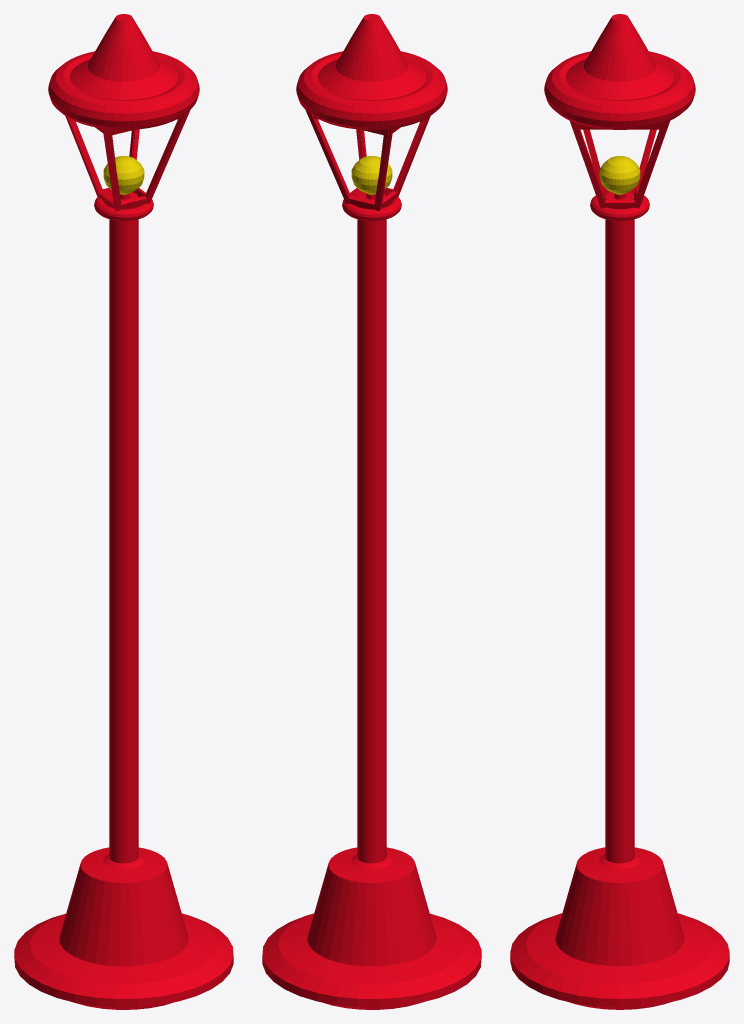
File: Farol.fbx
The picture shows the model from 3 angles, left to right: view 1: azimuth 30°, elevation 25°; view 2: azimuth 150°, elevation 25°; view 3: azimuth 270°, elevation 25°; orthographic projection.
Visible parts, largest first — view 1: Fafol; view 2: Fafol; view 3: Fafol.
Part boxes in pixels (x1,y1,x2,y2): Fafol: [14, 14, 233, 1009]; Fafol: [262, 14, 481, 1009]; Fafol: [510, 14, 729, 1009].
Bounding box in the file's own units: 274 × 274 × 1320.
